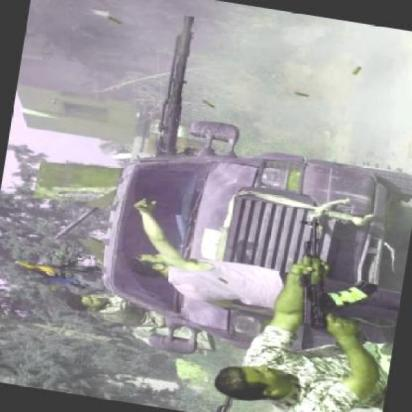Gun: (280, 211, 386, 348), (194, 387, 238, 412)
